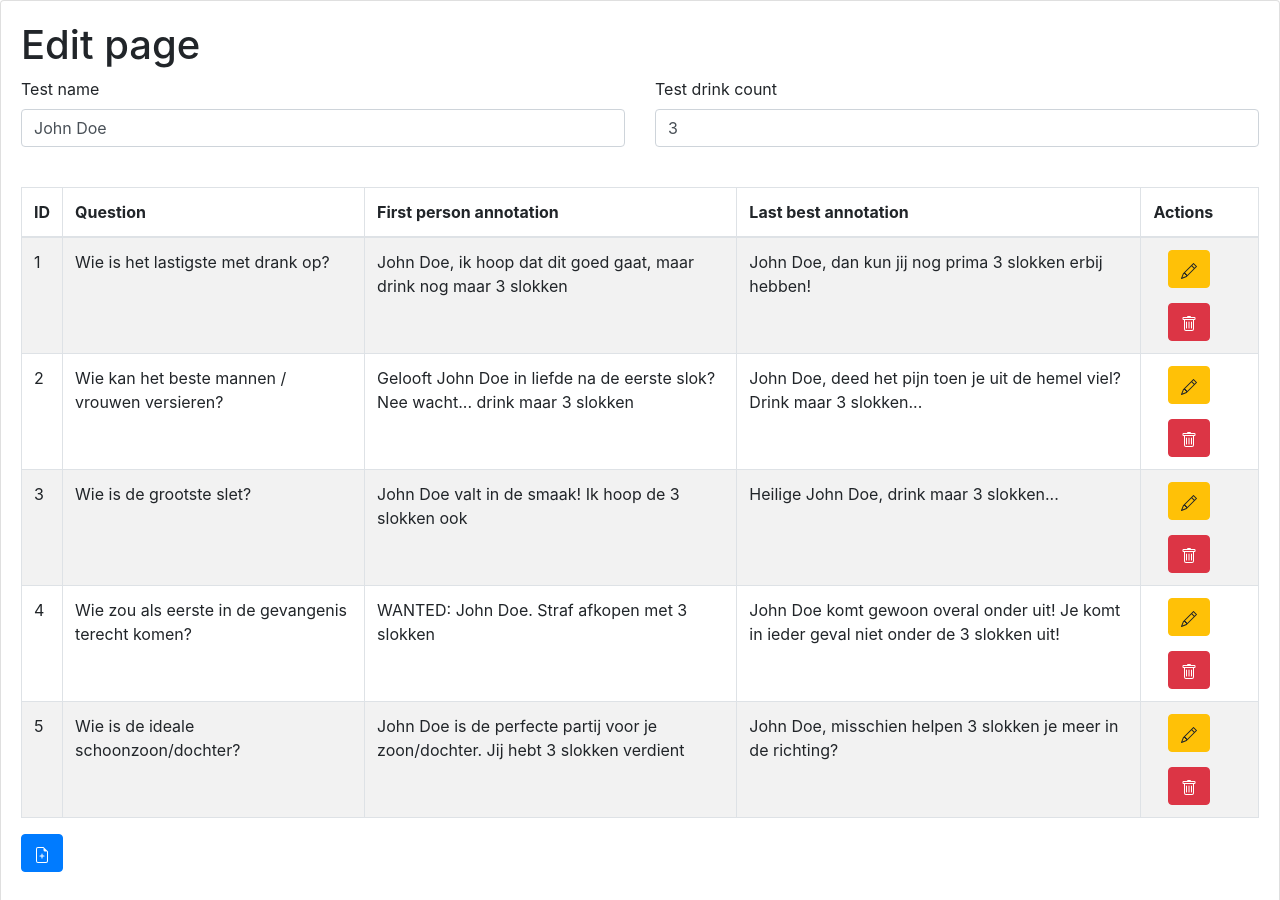
Test: question form is shown when clicked on edit quesiton
The width and height of the screenshot is (1280, 900).
Click the 1st button with test id "edit-question".
click(1189, 269)  # box [1168,250,1210,288]
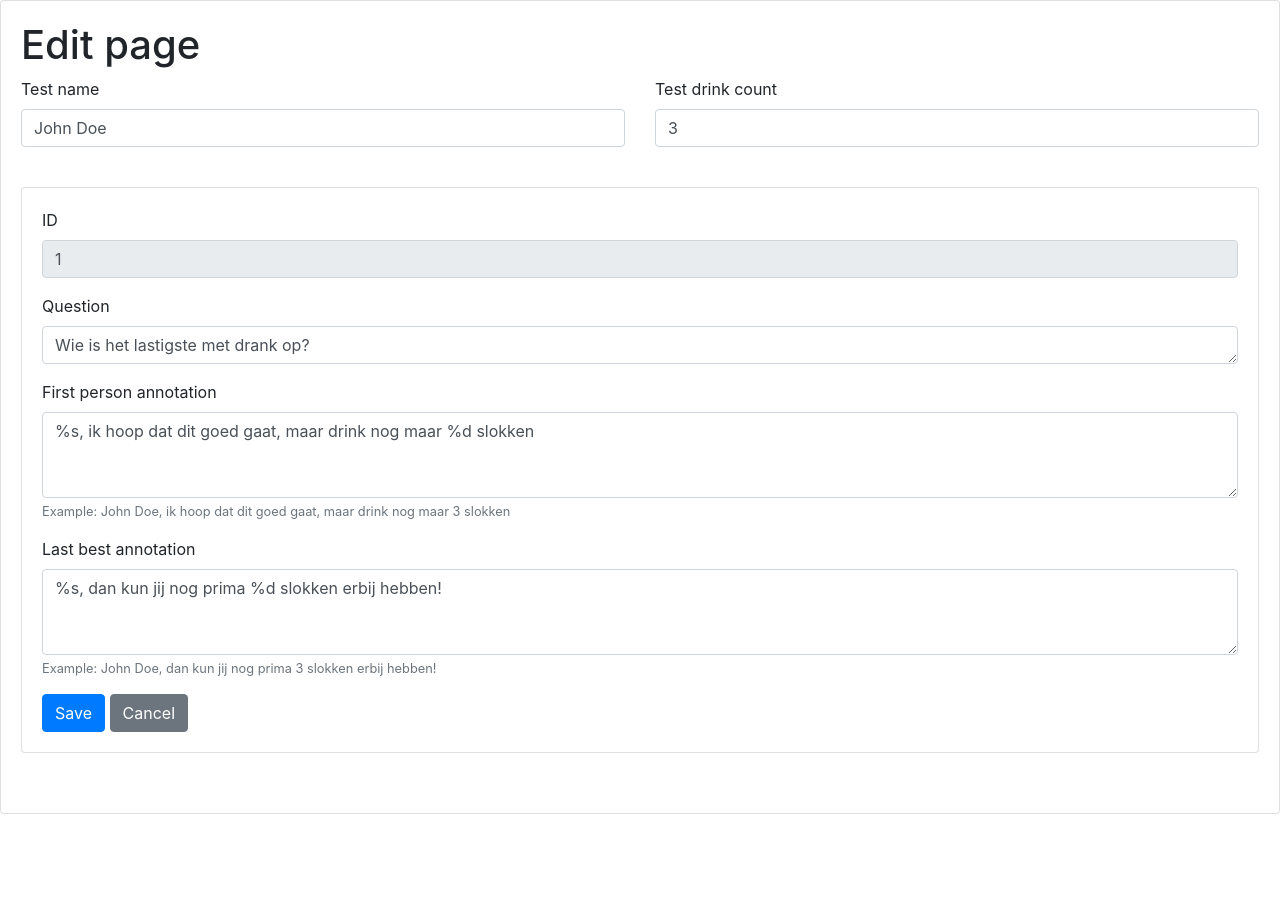
expect the element with test id "question-form-page" is shown: met
